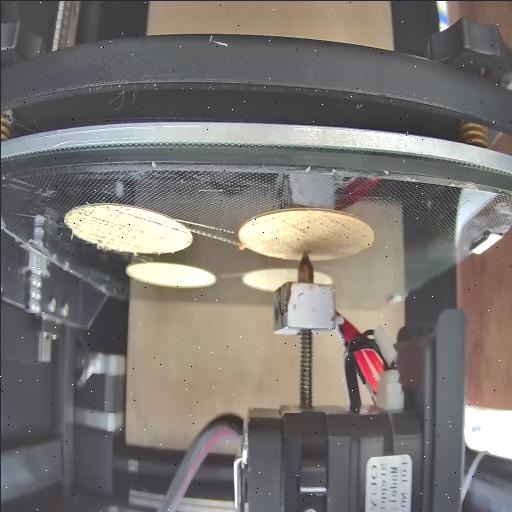under_extrusion: (74, 204, 160, 248), (251, 218, 368, 244), (167, 220, 191, 238)
